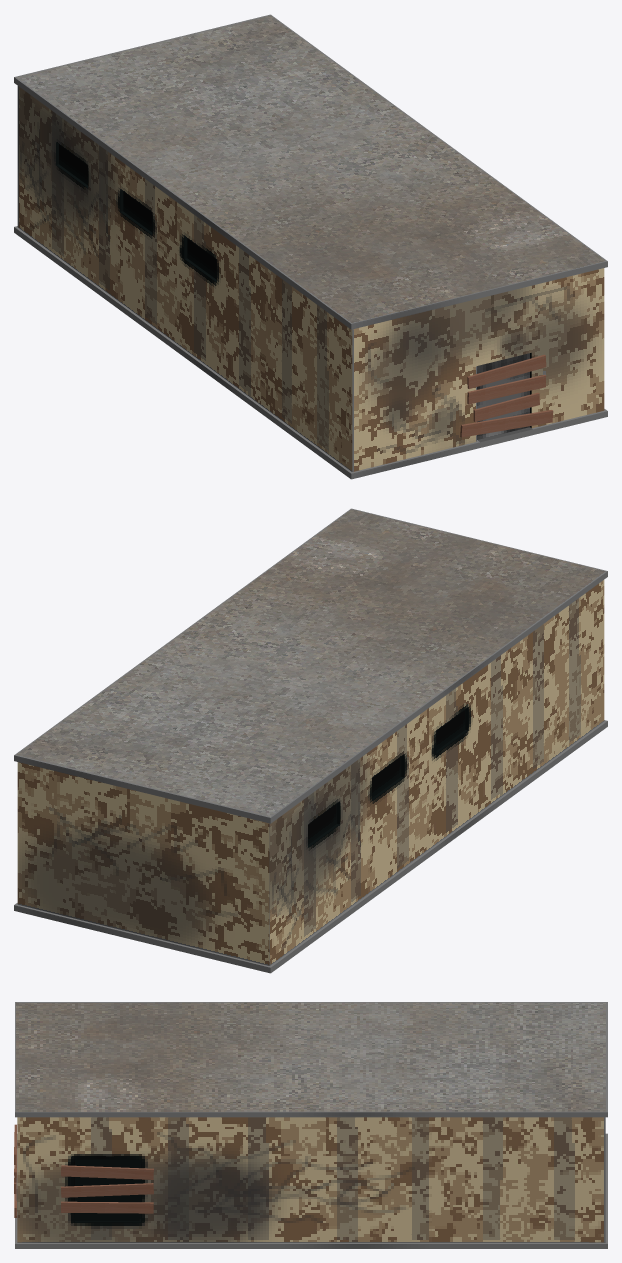
The model's file is armory-house.glb.
The picture shows the model from 3 angles, top to bottom: view 1: azimuth 30°, elevation 25°; view 2: azimuth 150°, elevation 25°; view 3: azimuth 270°, elevation 25°; orthographic projection. The views are drawn at different scales.
Parts seen in each view (by area): view 1: Box001, wood; view 2: Box001; view 3: Box001, wood.
Boxes of the visible parts, <box> form: Box001: <box>14,14,607,479</box>; wood: <box>460,354,553,437</box>; Box001: <box>14,508,607,973</box>; Box001: <box>15,1002,607,1248</box>; wood: <box>14,1124,153,1217</box>.
Bounding box in the file's own units: 1.57 × 0.8992 × 3.54.
2 materials, 2 textured.
